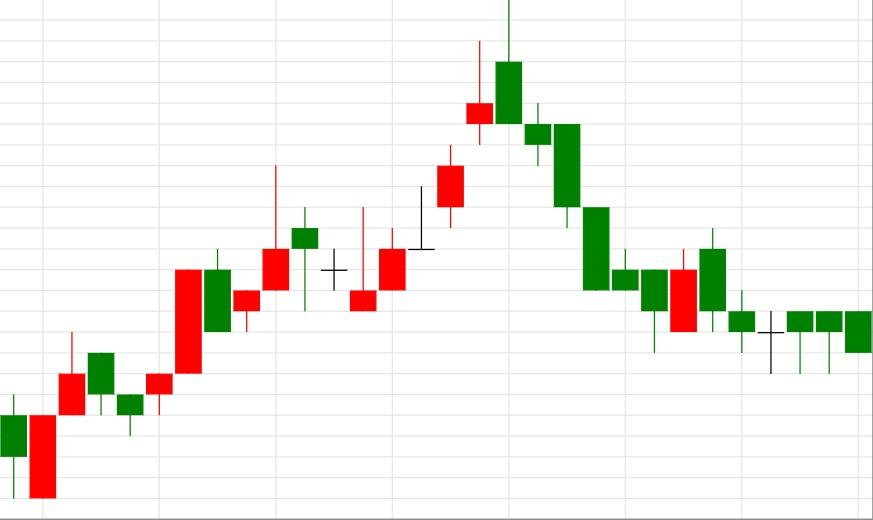inverse_hammer_rise: (291, 204, 378, 313)
